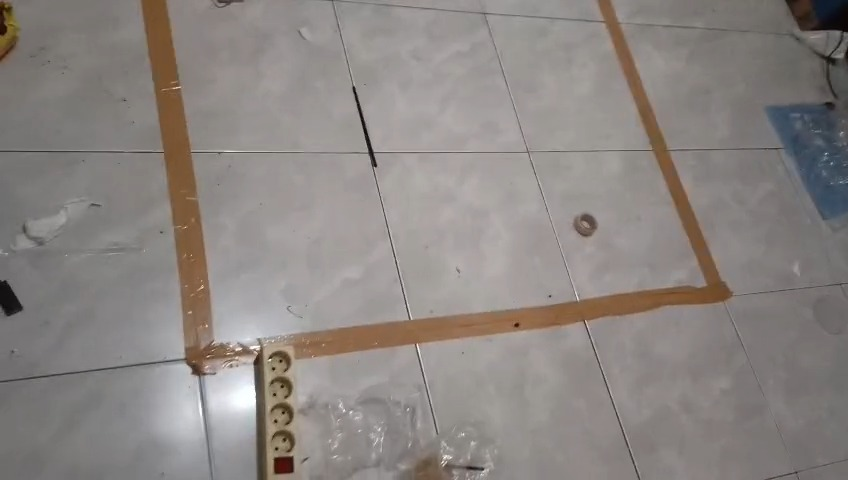floor marking: (276, 0, 731, 357), (139, 0, 255, 374)
